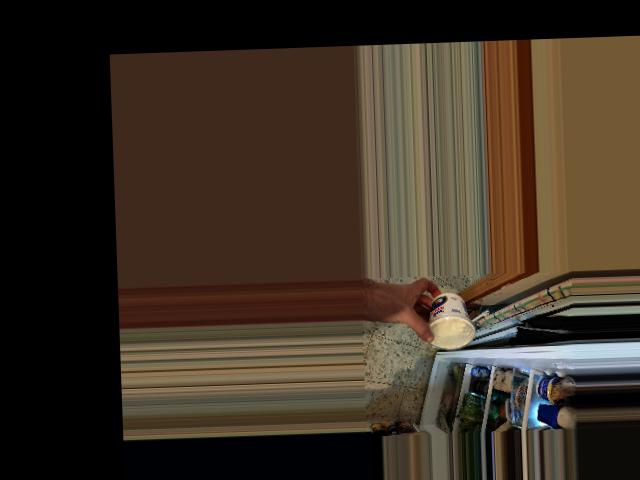cotage: (420, 288, 474, 349)
